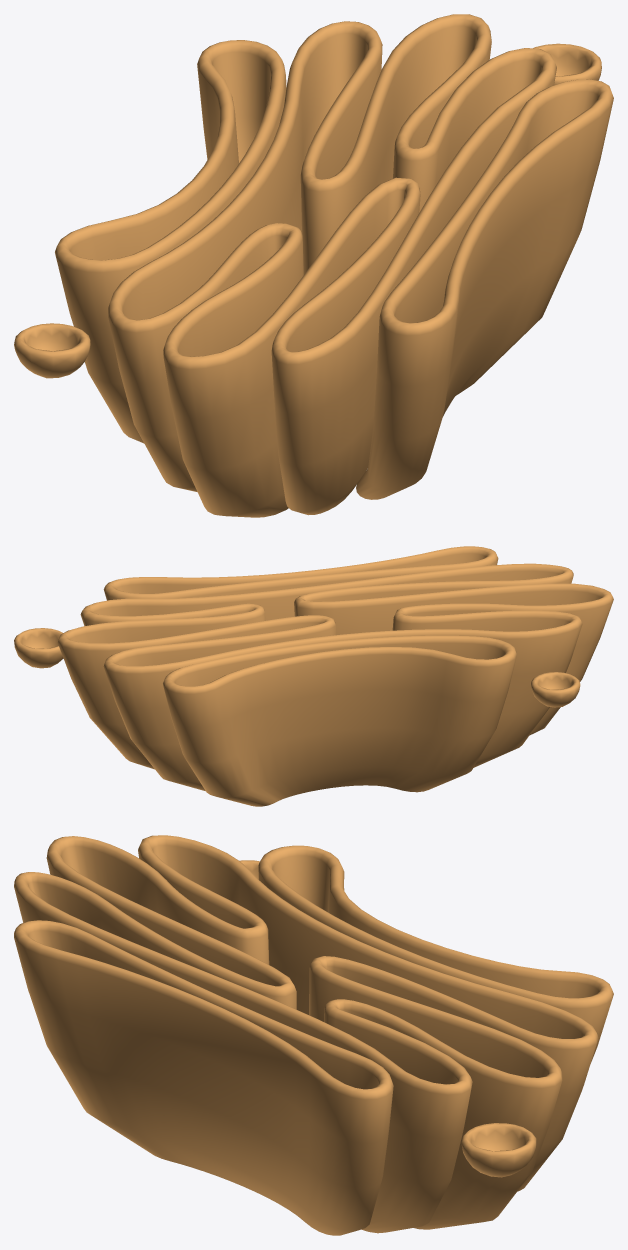
File: golgi.gltf
The picture shows the model from 3 angles, top to bottom: view 1: azimuth 30°, elevation 25°; view 2: azimuth 150°, elevation 25°; view 3: azimuth 270°, elevation 25°; orthographic projection. The views are drawn at different scales.
Visible parts, largest first — view 1: BezierCurve.002; view 2: BezierCurve.002; view 3: BezierCurve.002.
Boxes of the visible parts, x1,y1,x2,y2 form: BezierCurve.002: (14,14,613,517); BezierCurve.002: (14,546,613,806); BezierCurve.002: (14,835,613,1235).
Bounding box in the file's own units: 2.32 × 0.7305 × 1.92.
